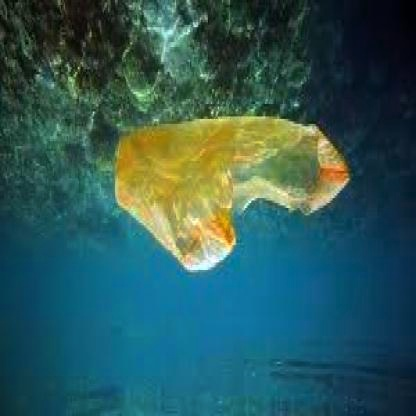pbag: (114, 114, 352, 277)
